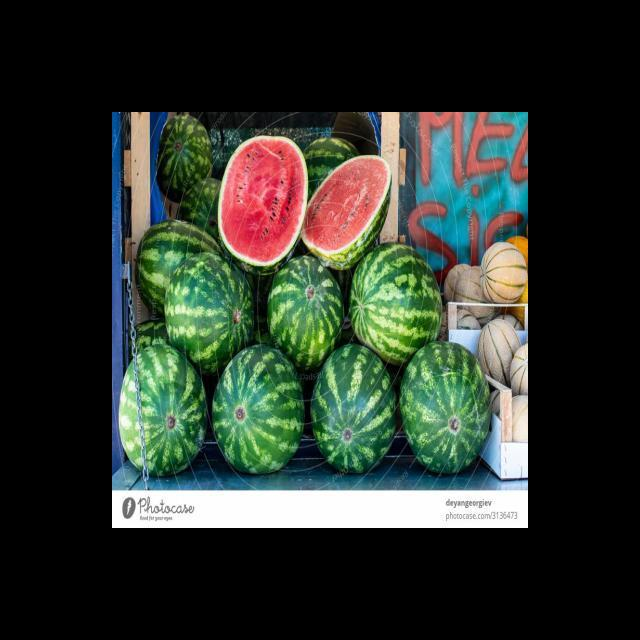watermelon: (217, 135, 309, 277), (398, 338, 493, 475), (118, 343, 208, 478), (212, 344, 304, 474), (310, 342, 398, 474), (163, 250, 255, 376), (350, 241, 442, 366), (300, 153, 392, 270), (266, 255, 344, 372), (134, 220, 223, 316), (156, 113, 216, 204), (302, 136, 361, 204), (178, 176, 222, 243), (125, 318, 168, 364), (208, 127, 245, 179)
